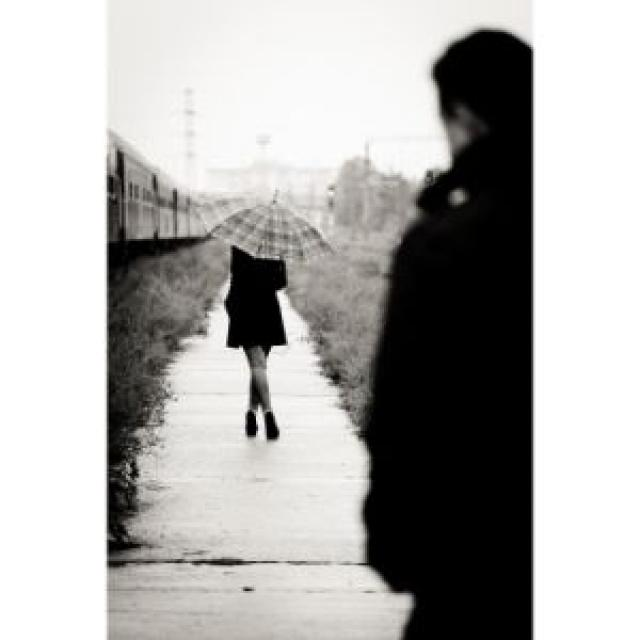nonfall: (213, 200, 320, 470)
